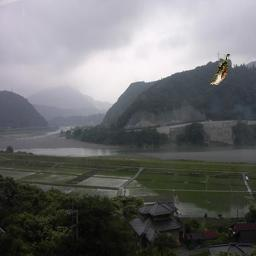Cuckoo: (210, 55, 230, 86)
